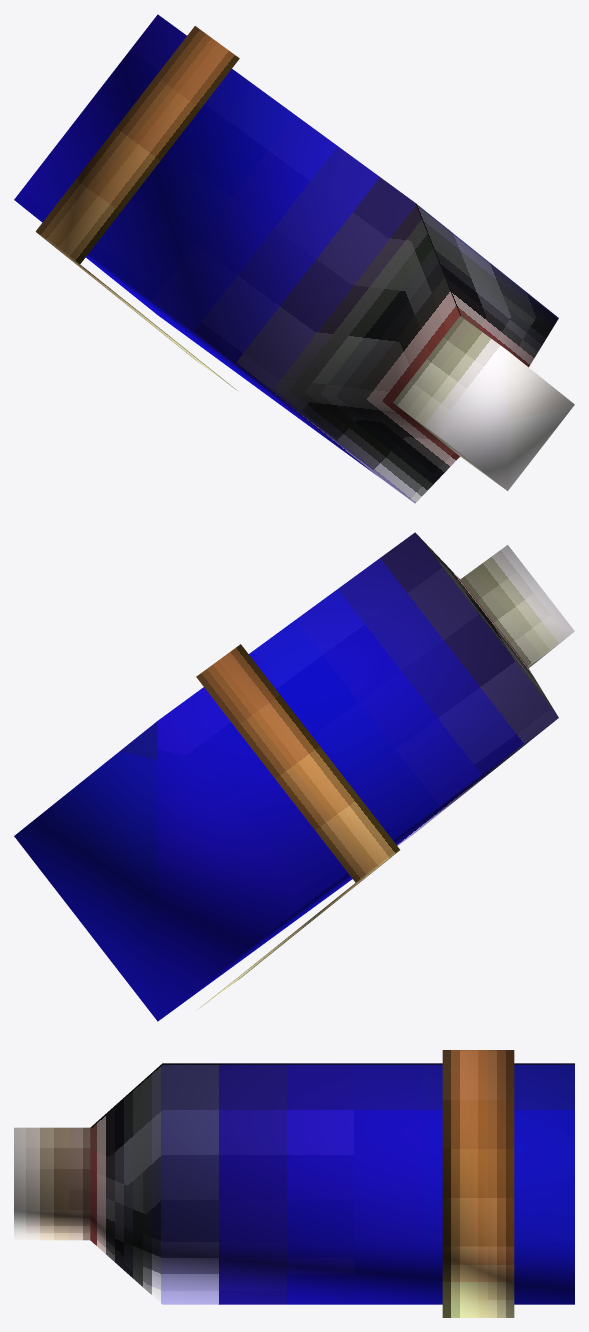
Rendered from Potion06.glb.
3 views of the same model, one above another, from view 1: azimuth 30°, elevation 25°; view 2: azimuth 150°, elevation 25°; view 3: azimuth 270°, elevation 25° (orthographic). The views are drawn at different scales.
Parts seen in each view (by area): view 1: model_Potion06; view 2: model_Potion06; view 3: model_Potion06.
Boxes of the visible parts, <box> form: model_Potion06: <box>14,14,574,503</box>; model_Potion06: <box>14,532,574,1021</box>; model_Potion06: <box>14,1050,574,1317</box>.
Size of the model in its own units: 0.1627 by 0.1627 by 0.309.
Materials: 2 (2 with a texture image).
